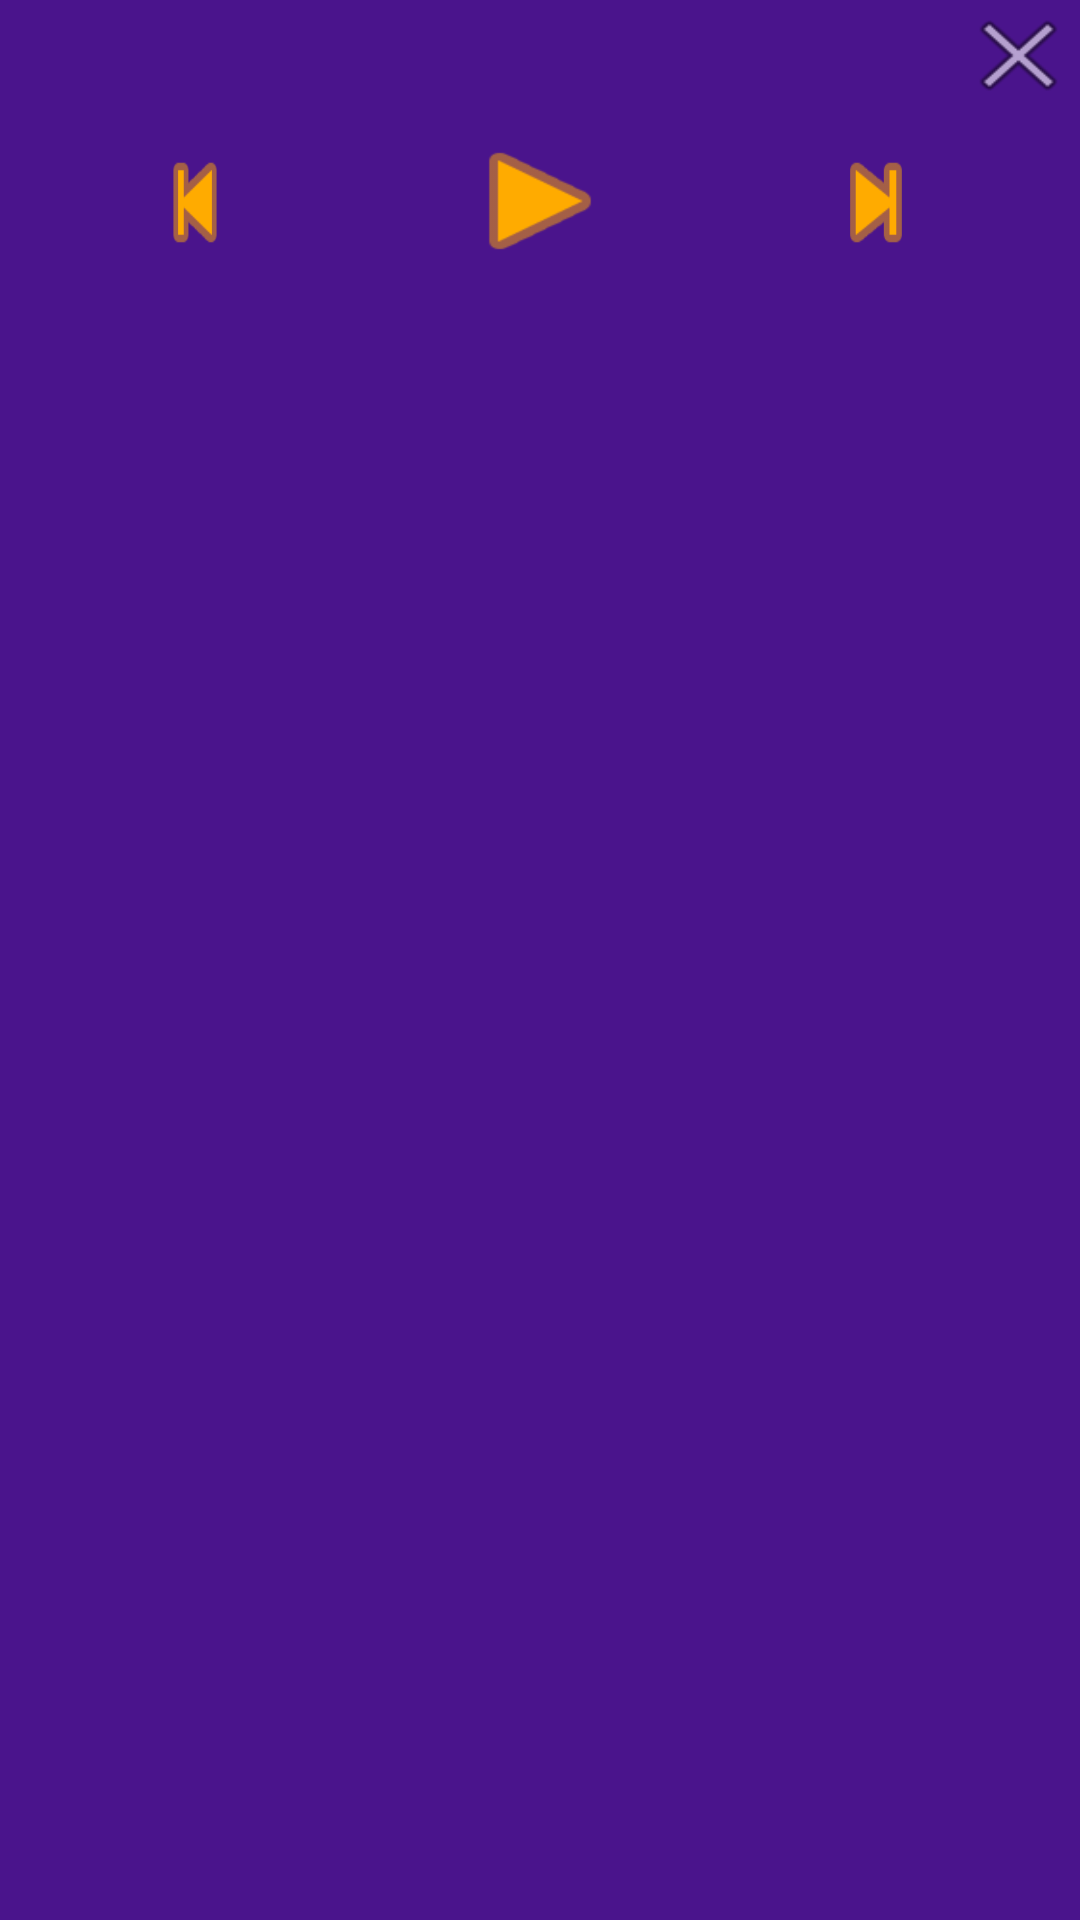

Icon click points for this 1080px x 1920px phone screenshot, format (x=x, y=y):
close clear cancel: (x=1018, y=55)
next: (x=876, y=202)
play: (x=540, y=201)
previous: (x=195, y=202)
